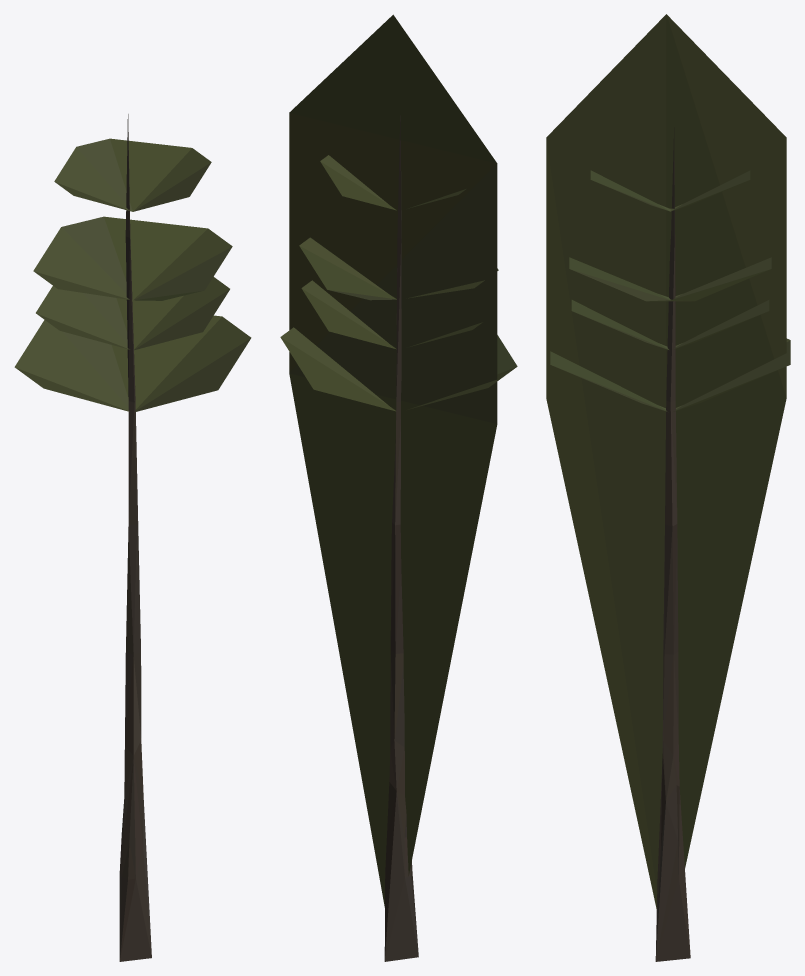
File: nadel_5.glb
3 views of the same model, side by side, from view 1: azimuth 30°, elevation 25°; view 2: azimuth 150°, elevation 25°; view 3: azimuth 270°, elevation 25° (orthographic).
Parts seen in each view (by area): view 1: rinde; view 2: rinde; view 3: rinde.
Part boxes in pixels (x1,y1,x2,y2): rinde: [14, 114, 251, 961]; rinde: [280, 14, 517, 961]; rinde: [546, 14, 790, 961].
Size of the model in its own units: 3.08 by 13 by 3.06.
